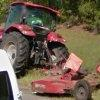Tractor: (3, 0, 71, 72)
